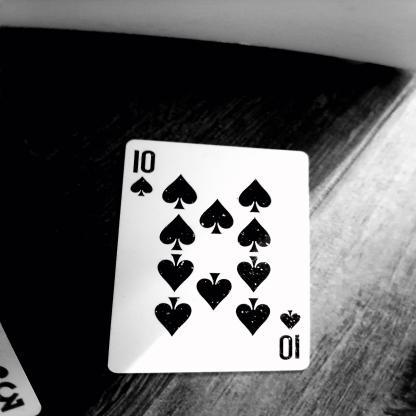10S: (274, 302, 314, 366), (129, 143, 167, 207)
